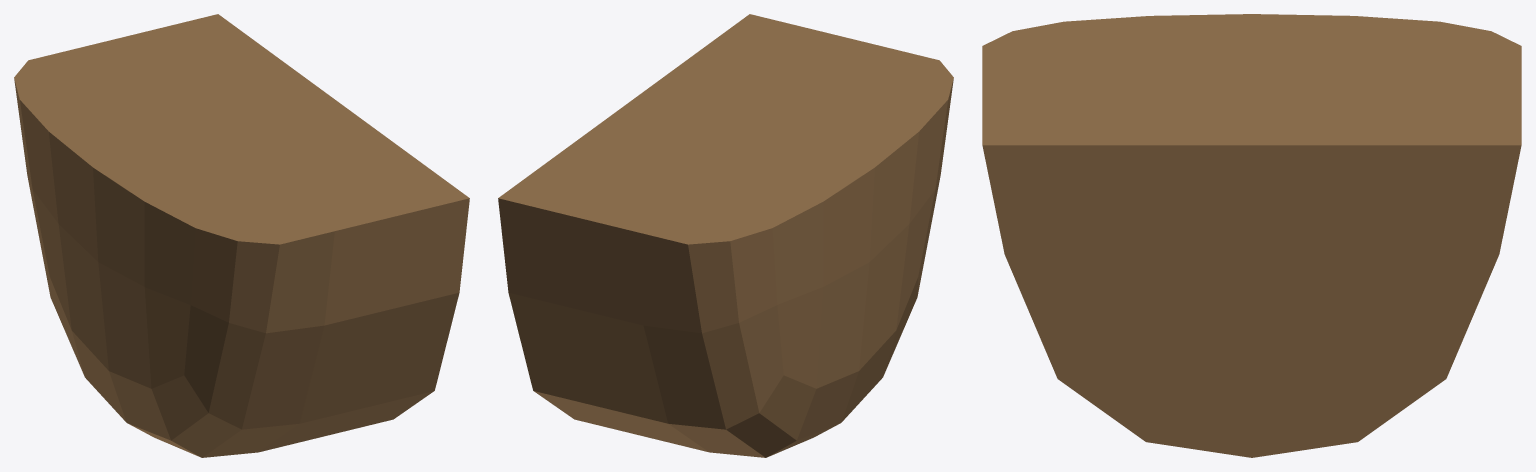
Rendered from quaternius-platformer-platform-bottom-left.glb.
The picture shows the model from 3 angles, left to right: view 1: azimuth 30°, elevation 25°; view 2: azimuth 150°, elevation 25°; view 3: azimuth 270°, elevation 25°; orthographic projection. The views are drawn at different scales.
Visible parts, largest first — view 1: Platform_BottomLeft; view 2: Platform_BottomLeft; view 3: Platform_BottomLeft.
Part boxes in pixels (x1,y1,x2,y2): Platform_BottomLeft: [14, 14, 469, 457]; Platform_BottomLeft: [498, 14, 953, 457]; Platform_BottomLeft: [982, 14, 1521, 457].
Bounding box in the file's own units: 1.8 × 2 × 3.13.
